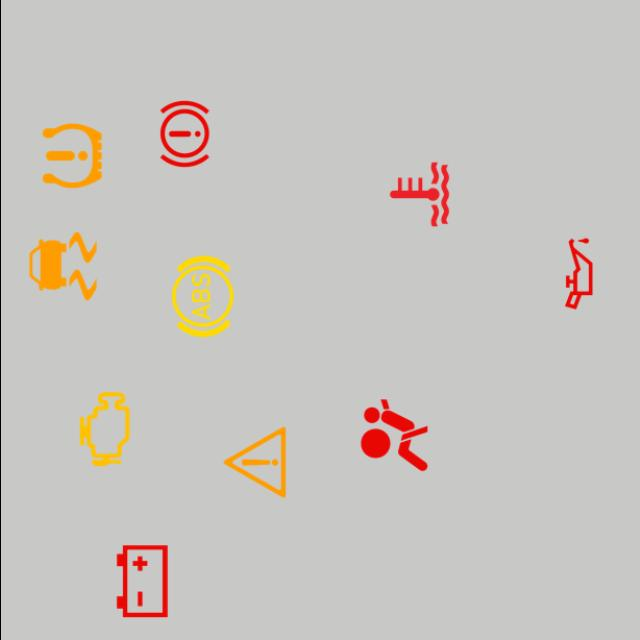Anti Lock Braking System: (157, 252, 245, 340)
Braking System Issue: (140, 90, 228, 178)
Charging System Issue: (97, 537, 185, 625)
Check Engine: (59, 384, 148, 474)
Electronic Stability Problem -ESP-: (18, 222, 106, 310)
Engine Overheating Warning Light: (374, 150, 462, 238)
Low Engine Oil Warning Light: (534, 230, 622, 318)
Low Tire Pressure Warning Light: (28, 112, 116, 200)
Master warning light: (210, 418, 298, 506)
SRS-Airbag: (350, 391, 438, 479)
